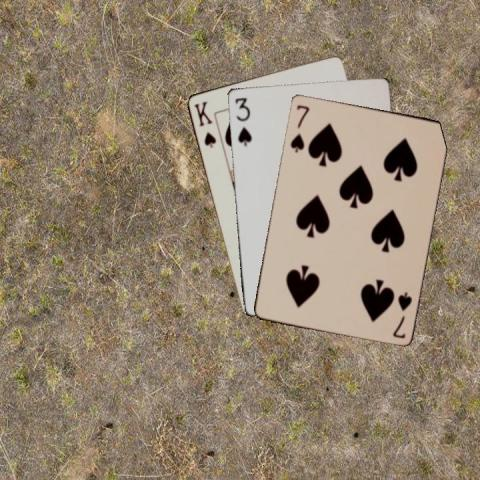3s: (232, 94, 253, 147)
7s: (286, 101, 310, 154), (390, 288, 414, 339)
Ks: (191, 98, 217, 149)
